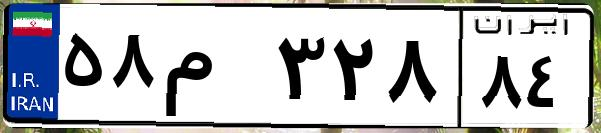2: (330, 28, 385, 110)
3: (270, 28, 330, 110)
4: (525, 38, 570, 115)
5: (57, 26, 110, 100)
8: (385, 28, 445, 110), (475, 38, 525, 113), (110, 28, 158, 98)
م: (158, 20, 270, 120)
